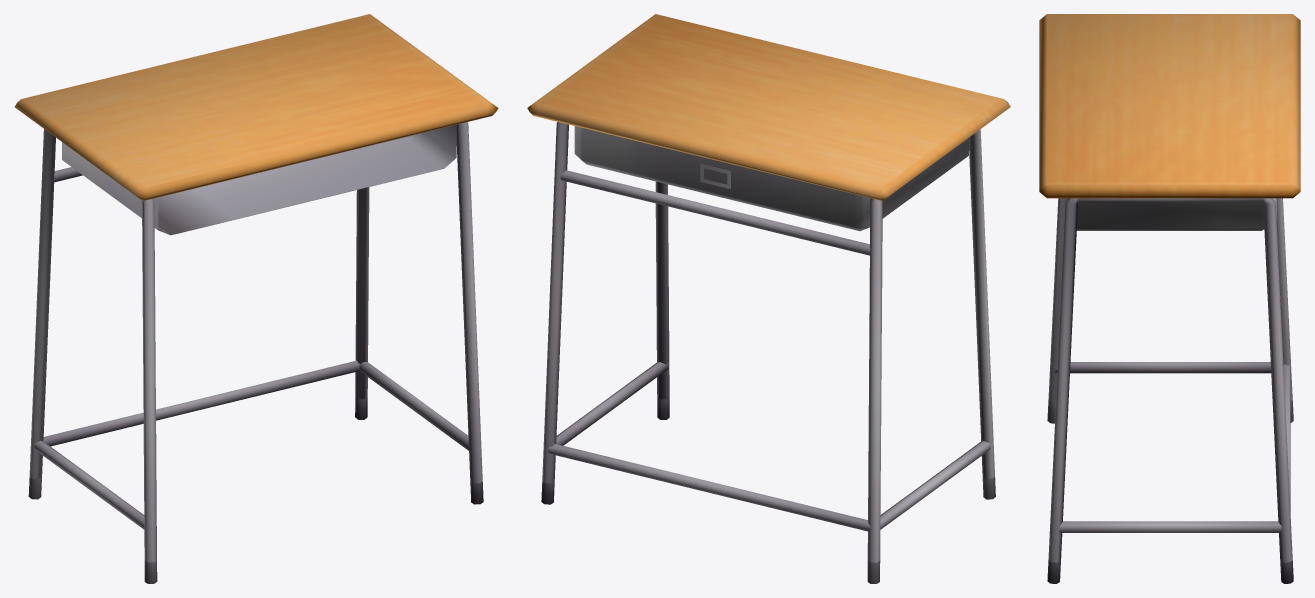
Rendered from desk_type00.FBX.
3 renders of one model, left to right at view 1: azimuth 30°, elevation 25°; view 2: azimuth 150°, elevation 25°; view 3: azimuth 270°, elevation 25°, orthographic.
Visible parts, largest first — view 1: crm_deskA000; view 2: crm_deskA000; view 3: crm_deskA000.
Boxes of the visible parts, box(x1,y1,x2,y2) form: crm_deskA000: box(14, 14, 498, 583); crm_deskA000: box(527, 14, 1010, 583); crm_deskA000: box(1039, 14, 1300, 583).
Bounding box in the file's own units: 79.26 × 83.44 × 49.19.
